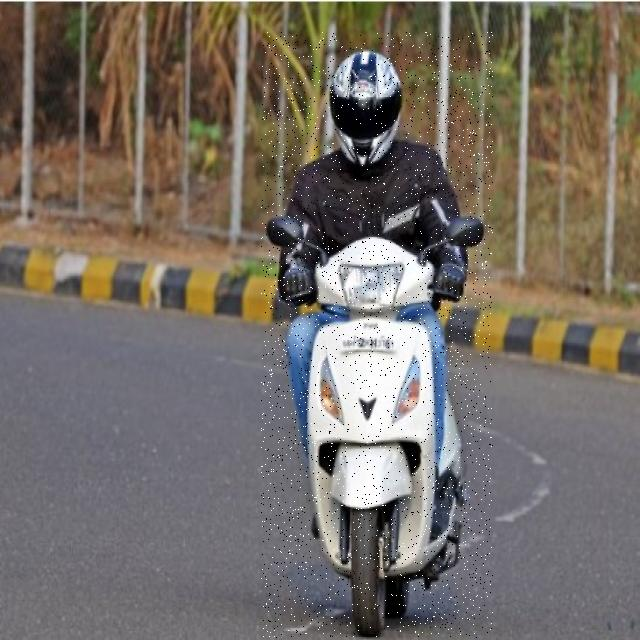With Helmet: (261, 32, 493, 638)
